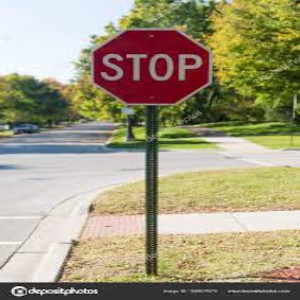STOP_SIGN: (91, 27, 212, 105)
